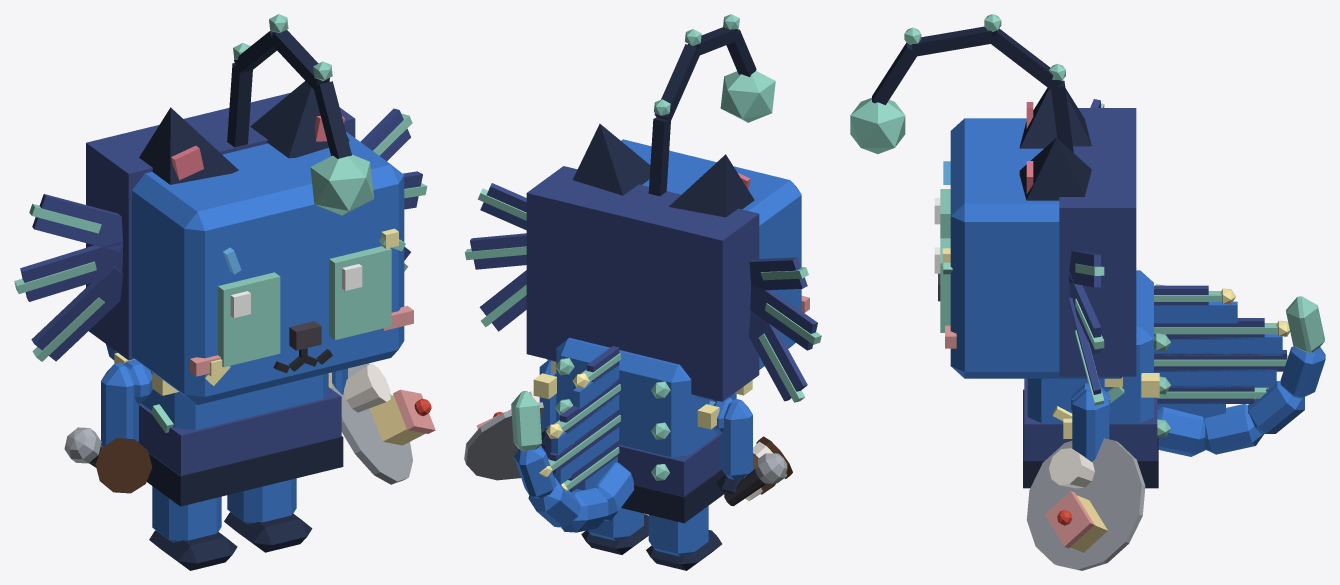
The model's file is CatCafe_Cat_Abyss_Work.glb.
The picture shows the model from 3 angles, left to right: view 1: azimuth 30°, elevation 25°; view 2: azimuth 150°, elevation 25°; view 3: azimuth 270°, elevation 25°; orthographic projection. The views are drawn at different scales.
Parts seen in each view (by area): view 1: CatCafe_Cat_Abyss_Work_Head, CatCafe_Cat_Abyss_Work_Body, CatCafe_Cat_Abyss_Work_Prop, CatCafe_Cat_Abyss_Work_Held_Waiter, CatCafe_Cat_Abyss_Work_Glow, CatCafe_Cat_Abyss_Work_Eye1, CatCafe_Cat_Abyss_Work_Eye2, CatCafe_Cat_Abyss_Work_LegB2, CatCafe_Cat_Abyss_Work_LegB1, CatCafe_Cat_Abyss_Work_EarR, CatCafe_Cat_Abyss_Work_EarL, CatCafe_Cat_Abyss_Work_LegF2 (+2 smaller); view 2: CatCafe_Cat_Abyss_Work_Head, CatCafe_Cat_Abyss_Work_Body, CatCafe_Cat_Abyss_Work_Prop, CatCafe_Cat_Abyss_Work_Tail, CatCafe_Cat_Abyss_Work_Glow, CatCafe_Cat_Abyss_Work_Prop2, CatCafe_Cat_Abyss_Work_Sail_Glow, CatCafe_Cat_Abyss_Work_EarL, CatCafe_Cat_Abyss_Work_LegB2, CatCafe_Cat_Abyss_Work_Held_Waiter, CatCafe_Cat_Abyss_Work_EarR, CatCafe_Cat_Abyss_Work_LegF2 (+4 smaller); view 3: CatCafe_Cat_Abyss_Work_Head, CatCafe_Cat_Abyss_Work_Held_Waiter, CatCafe_Cat_Abyss_Work_Body, CatCafe_Cat_Abyss_Work_Prop2, CatCafe_Cat_Abyss_Work_Tail, CatCafe_Cat_Abyss_Work_Prop, CatCafe_Cat_Abyss_Work_Sail_Glow, CatCafe_Cat_Abyss_Work_Glow, CatCafe_Cat_Abyss_Work_EarL, CatCafe_Cat_Abyss_Work_EarR, CatCafe_Cat_Abyss_Work_LegF1, CatCafe_Cat_Abyss_Work_Eye1 (+1 smaller).
Part boxes in pixels (<box>): CatCafe_Cat_Abyss_Work_Head: <box>86,92,413,404</box>; CatCafe_Cat_Abyss_Work_Body: <box>114,353,343,506</box>; CatCafe_Cat_Abyss_Work_Prop: <box>20,30,422,361</box>; CatCafe_Cat_Abyss_Work_Held_Waiter: <box>331,363,435,484</box>; CatCafe_Cat_Abyss_Work_Glow: <box>14,14,427,361</box>; CatCafe_Cat_Abyss_Work_Eye1: <box>329,246,391,339</box>; CatCafe_Cat_Abyss_Work_Eye2: <box>218,272,280,367</box>; CatCafe_Cat_Abyss_Work_LegB2: <box>149,486,237,570</box>; CatCafe_Cat_Abyss_Work_LegB1: <box>224,478,312,552</box>; CatCafe_Cat_Abyss_Work_EarR: <box>139,107,238,184</box>; CatCafe_Cat_Abyss_Work_EarL: <box>250,81,349,158</box>; CatCafe_Cat_Abyss_Work_LegF2: <box>101,362,138,446</box>; CatCafe_Cat_Abyss_Work_Head: <box>526,139,809,401</box>; CatCafe_Cat_Abyss_Work_Body: <box>533,337,752,523</box>; CatCafe_Cat_Abyss_Work_Prop: <box>470,27,817,401</box>; CatCafe_Cat_Abyss_Work_Tail: <box>511,391,634,532</box>; CatCafe_Cat_Abyss_Work_Glow: <box>464,14,821,402</box>; CatCafe_Cat_Abyss_Work_Prop2: <box>549,346,619,492</box>; CatCafe_Cat_Abyss_Work_Sail_Glow: <box>539,353,670,490</box>; CatCafe_Cat_Abyss_Work_EarL: <box>572,123,650,195</box>; CatCafe_Cat_Abyss_Work_LegB2: <box>646,506,721,570</box>; CatCafe_Cat_Abyss_Work_Held_Waiter: <box>464,390,544,480</box>; CatCafe_Cat_Abyss_Work_EarR: <box>669,154,754,217</box>; CatCafe_Cat_Abyss_Work_LegF2: <box>716,399,752,494</box>; CatCafe_Cat_Abyss_Work_Head: <box>938,108,1136,378</box>; CatCafe_Cat_Abyss_Work_Held_Waiter: <box>1026,438,1145,570</box>; CatCafe_Cat_Abyss_Work_Body: <box>1023,270,1159,488</box>; CatCafe_Cat_Abyss_Work_Prop2: <box>1154,285,1286,418</box>; CatCafe_Cat_Abyss_Work_Tail: <box>1157,296,1325,456</box>; CatCafe_Cat_Abyss_Work_Prop: <box>872,26,1101,394</box>; CatCafe_Cat_Abyss_Work_Sail_Glow: <box>1154,284,1290,437</box>; CatCafe_Cat_Abyss_Work_Glow: <box>850,14,1104,405</box>; CatCafe_Cat_Abyss_Work_EarL: <box>1019,138,1091,200</box>; CatCafe_Cat_Abyss_Work_EarR: <box>1019,87,1091,148</box>; CatCafe_Cat_Abyss_Work_LegF1: <box>1072,389,1109,461</box>; CatCafe_Cat_Abyss_Work_Eye1: <box>934,238,950,332</box>.
Bounding box in the file's own units: 1.77 × 2.34 × 1.97.
Materials: 1 (1 with a texture image).
